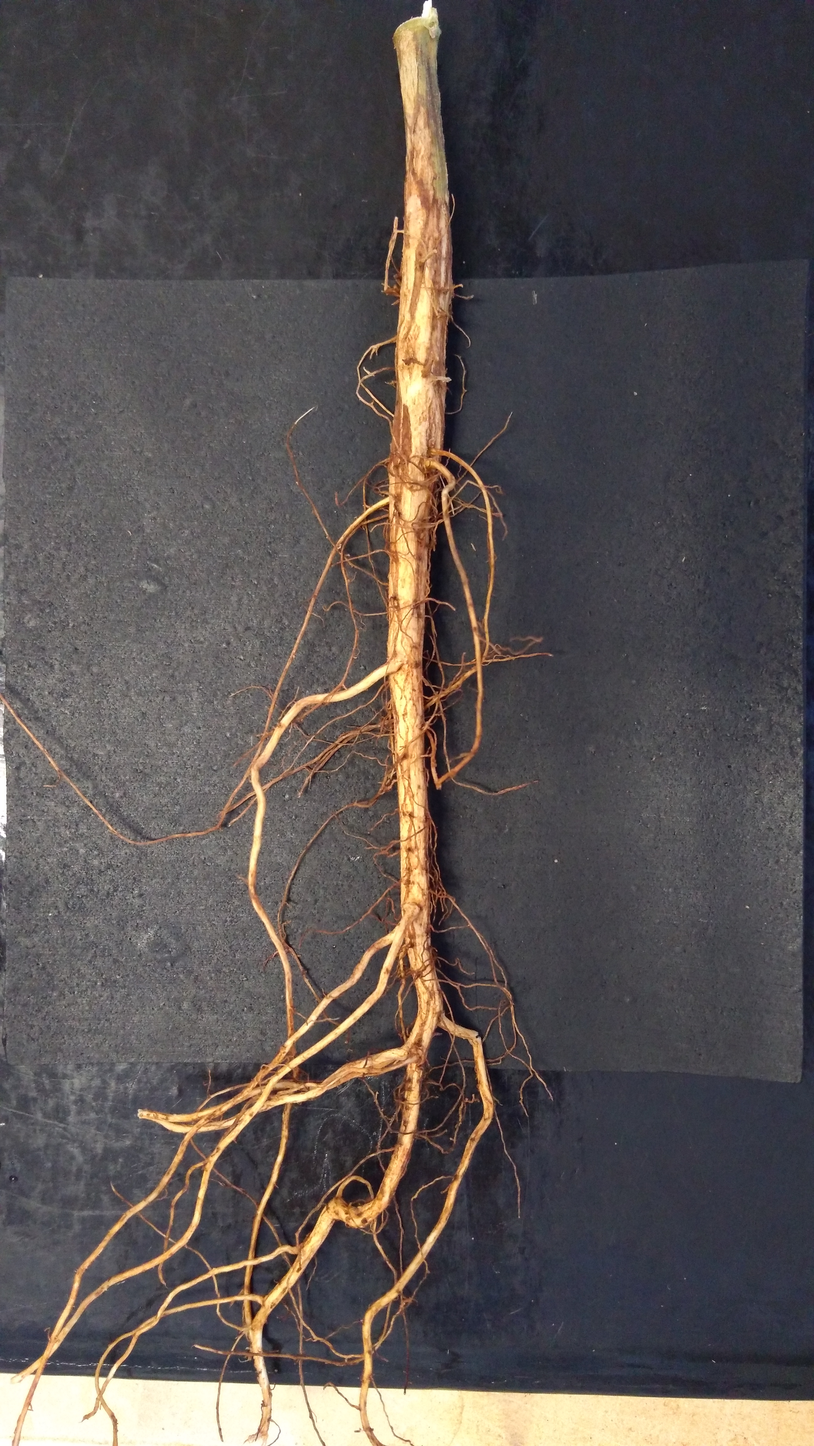nodule: (393, 273, 398, 280), (393, 283, 397, 289), (465, 1097, 468, 1101)
